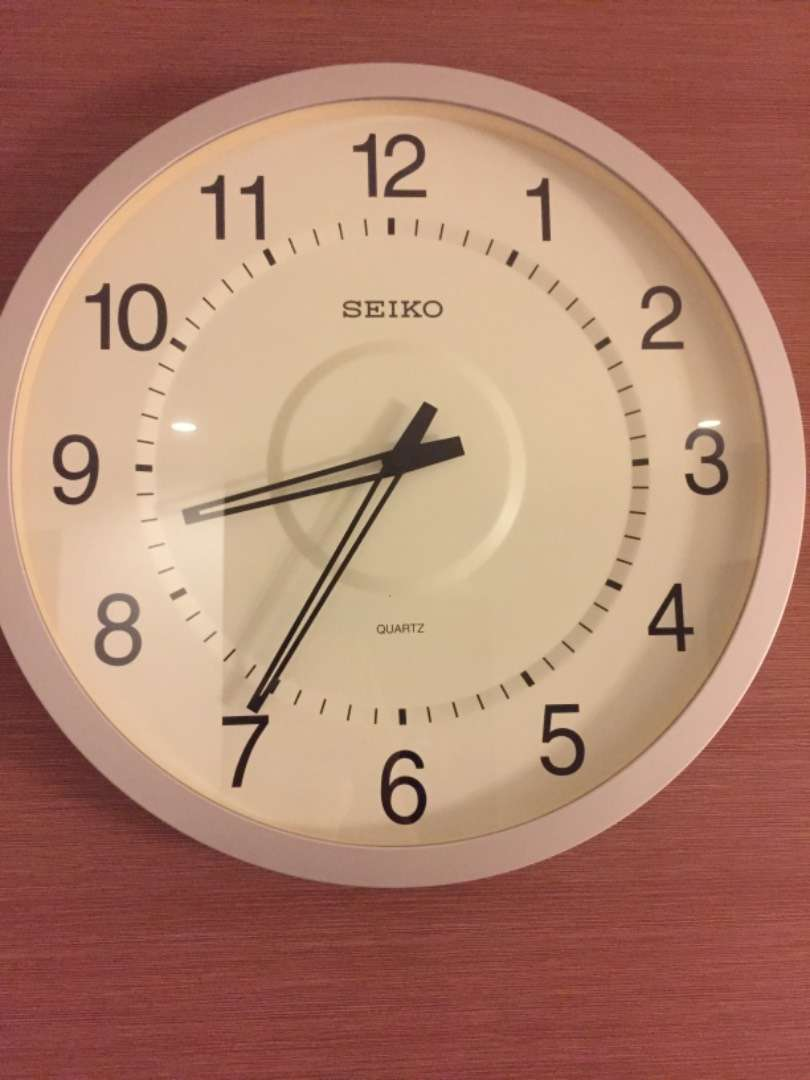jam dinding: (7, 42, 787, 960)
